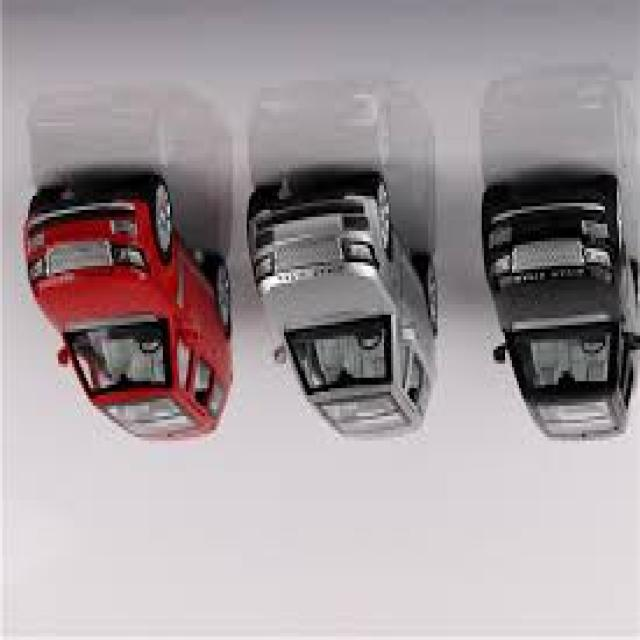Car: (21, 175, 233, 444), (245, 175, 438, 444), (479, 178, 638, 444)
